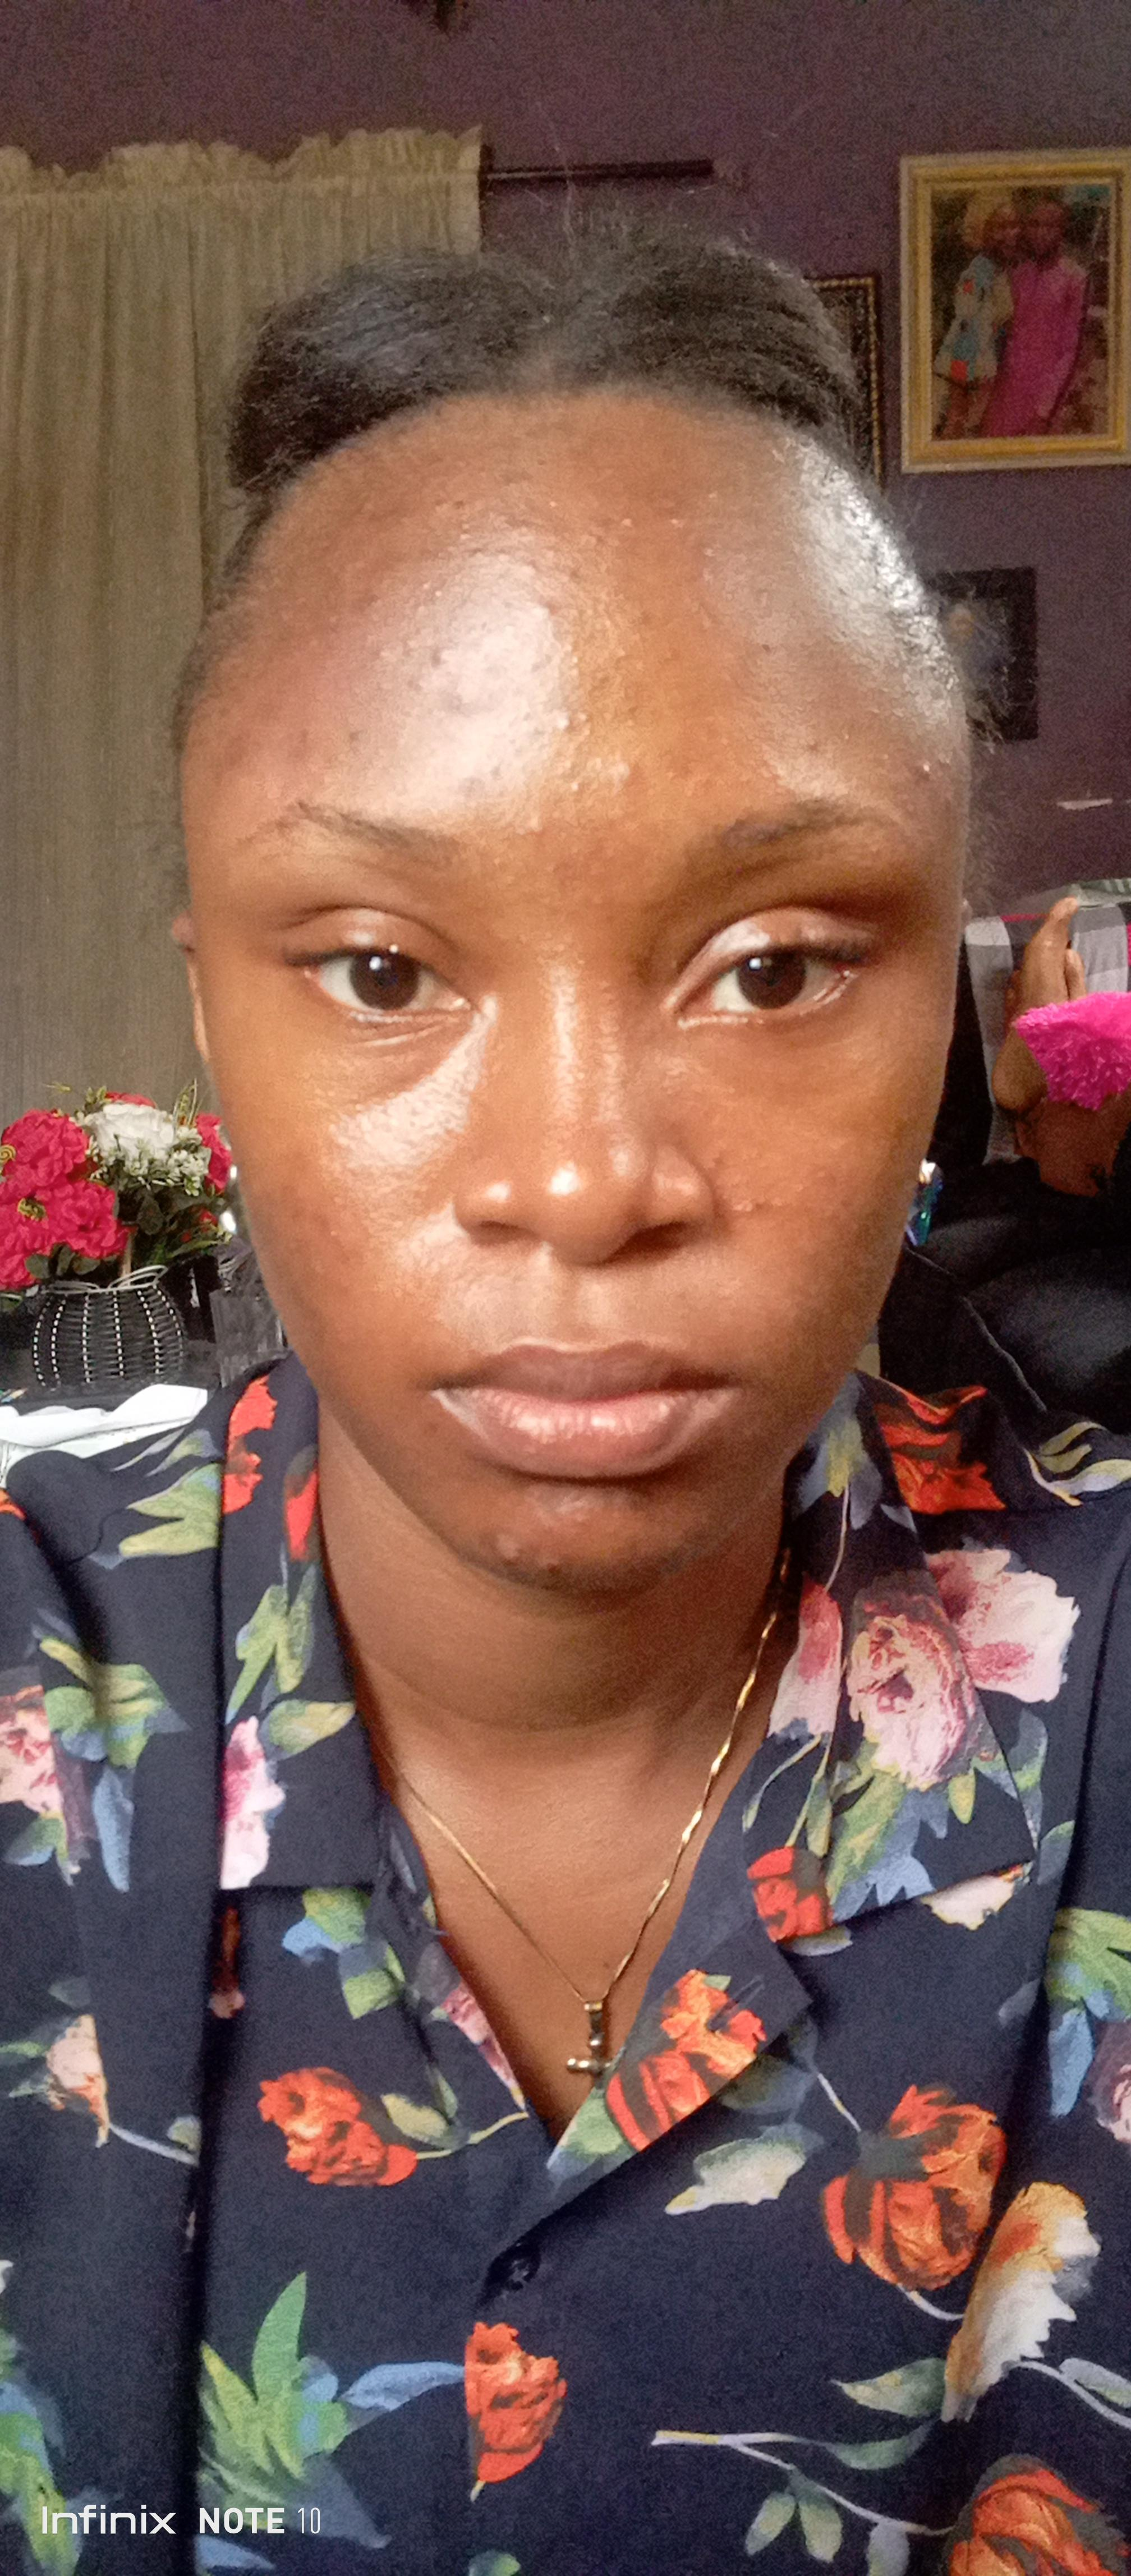Acne: (718, 1193, 794, 1221), (482, 506, 536, 537), (603, 751, 648, 784), (651, 485, 687, 524), (492, 1528, 523, 1572), (557, 752, 582, 805), (319, 1120, 355, 1153), (411, 577, 452, 603), (441, 685, 473, 718), (518, 800, 544, 838), (465, 544, 513, 563), (536, 588, 561, 626), (426, 641, 457, 670), (496, 465, 536, 488), (401, 679, 437, 703), (526, 649, 559, 675), (694, 536, 723, 563), (431, 490, 469, 511), (587, 662, 613, 688), (613, 511, 648, 531), (416, 1419, 445, 1442), (575, 598, 612, 616), (554, 710, 580, 734), (455, 772, 483, 795), (536, 858, 564, 881), (574, 708, 592, 743), (695, 483, 722, 506), (521, 706, 544, 733), (455, 516, 478, 540), (355, 493, 378, 517), (562, 641, 580, 672), (289, 725, 316, 746), (344, 728, 367, 751), (357, 588, 383, 608), (756, 639, 782, 659), (700, 563, 720, 590), (273, 1232, 301, 1250), (582, 527, 603, 550), (635, 606, 656, 628), (325, 1186, 345, 1208), (564, 562, 584, 583), (587, 892, 607, 913), (523, 555, 541, 578), (404, 631, 421, 656), (756, 583, 773, 608), (608, 646, 630, 664), (570, 1511, 595, 1526), (919, 757, 937, 777), (516, 928, 536, 946), (695, 614, 717, 631), (539, 1561, 562, 1576), (661, 644, 676, 667), (801, 738, 822, 752), (492, 757, 506, 779), (544, 540, 559, 562), (325, 1226, 344, 1242), (378, 646, 393, 662), (542, 498, 567, 508)
